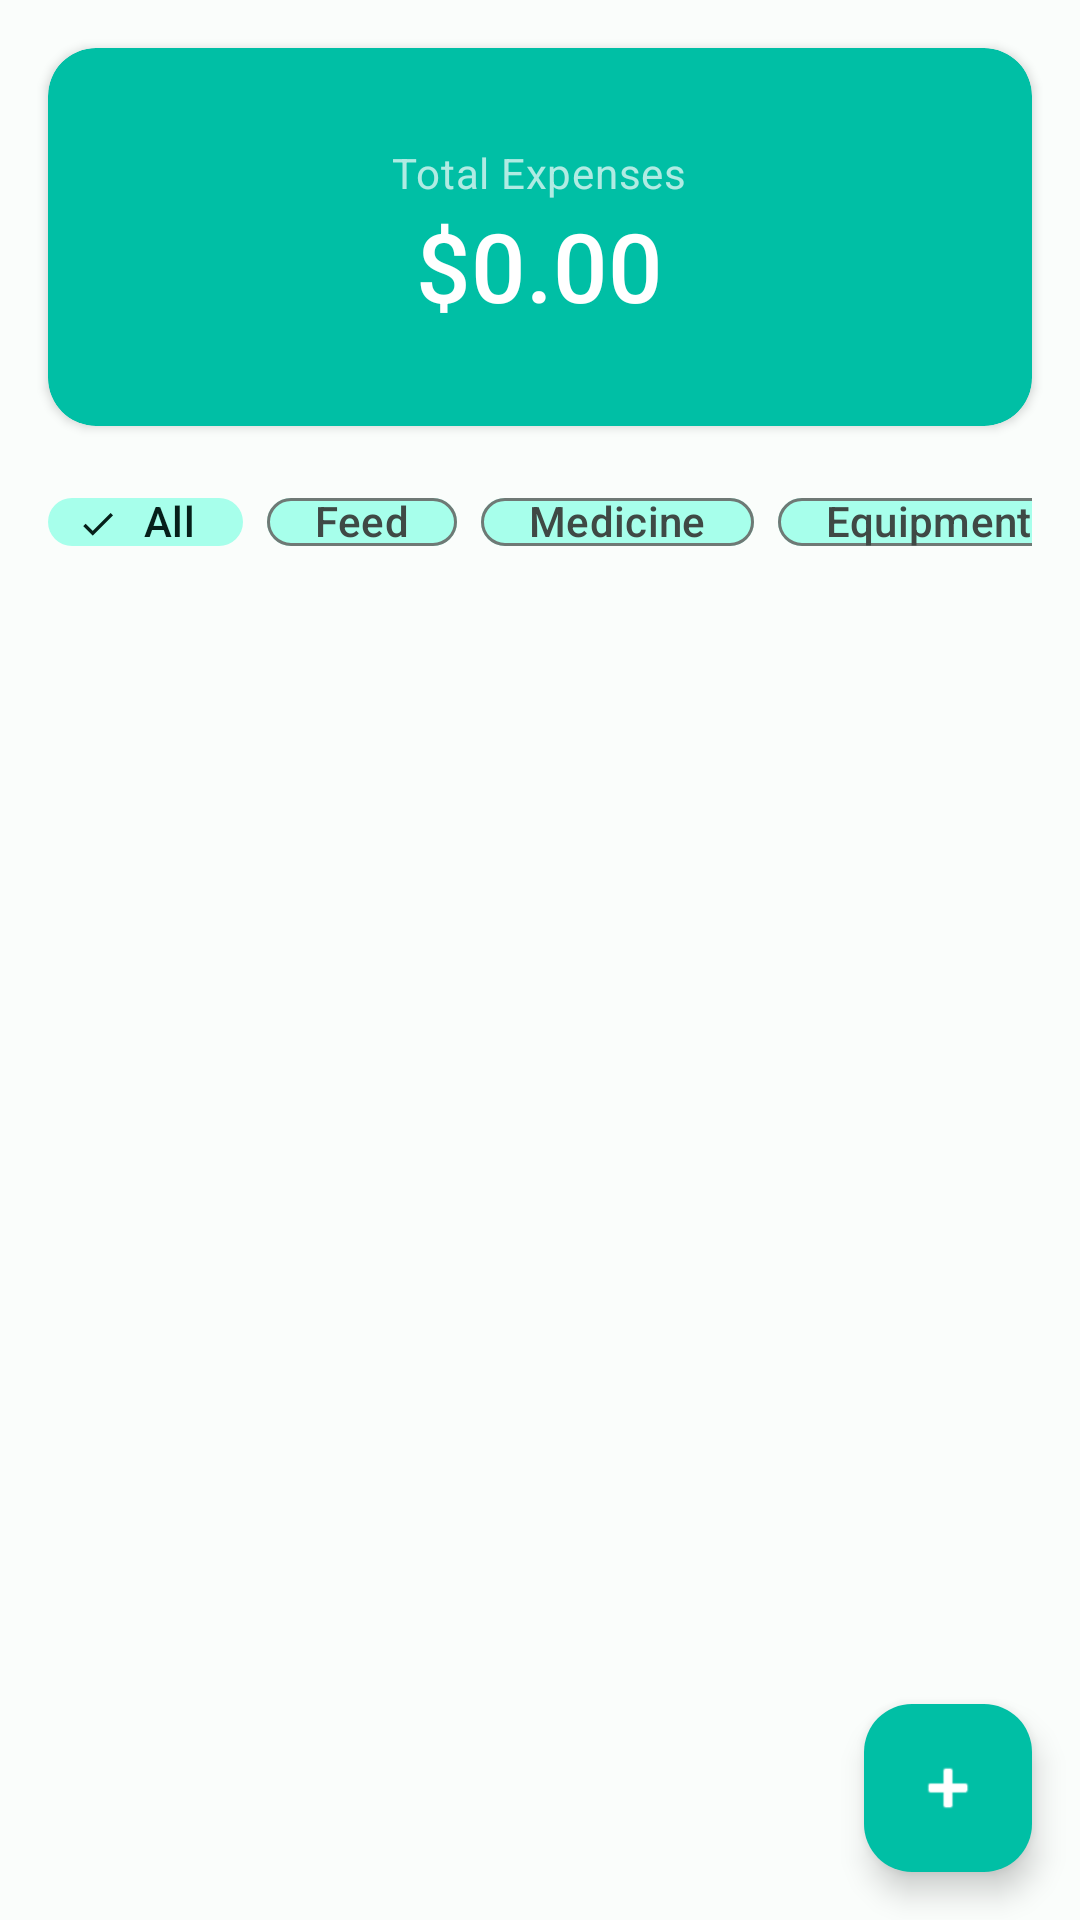

Icons on this 1080px×1920px Android screen, each with the point to tap as (x,y):
Add Expense: (948,1788)
